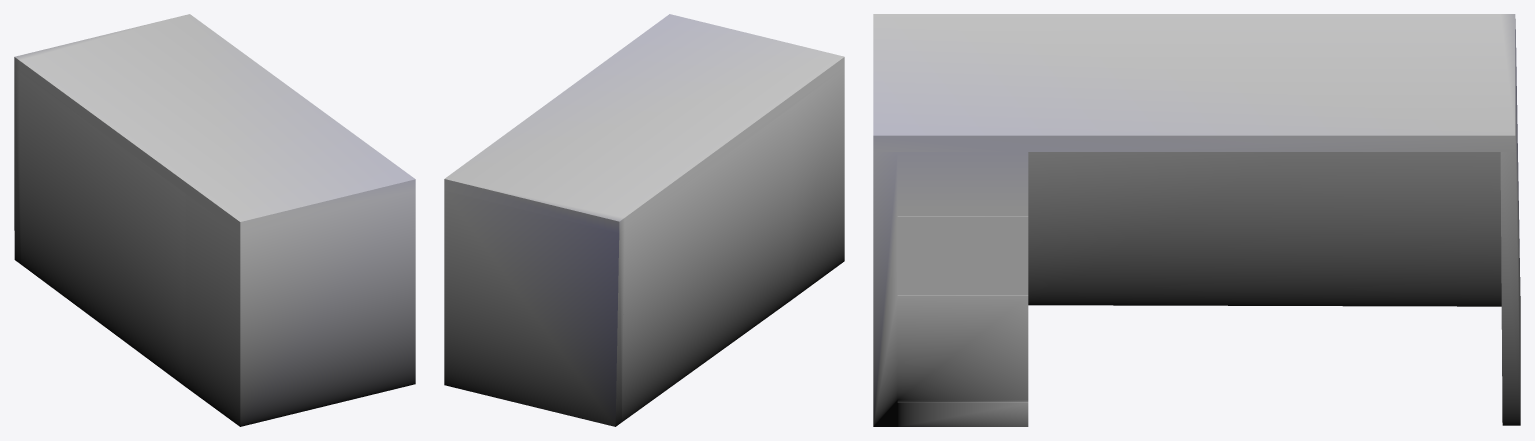
File: graydesk.fbx
3 views of the same model, side by side, from view 1: azimuth 30°, elevation 25°; view 2: azimuth 150°, elevation 25°; view 3: azimuth 270°, elevation 25° (orthographic). The views are drawn at different scales.
Parts seen in each view (by area): view 1: Cube; view 2: Cube; view 3: Cube.
Part boxes in pixels (bbox=[...]): Cube: bbox=[14, 14, 415, 426]; Cube: bbox=[444, 14, 844, 426]; Cube: bbox=[873, 14, 1520, 426].
Bounding box in the file's own units: 190 × 212 × 427.
